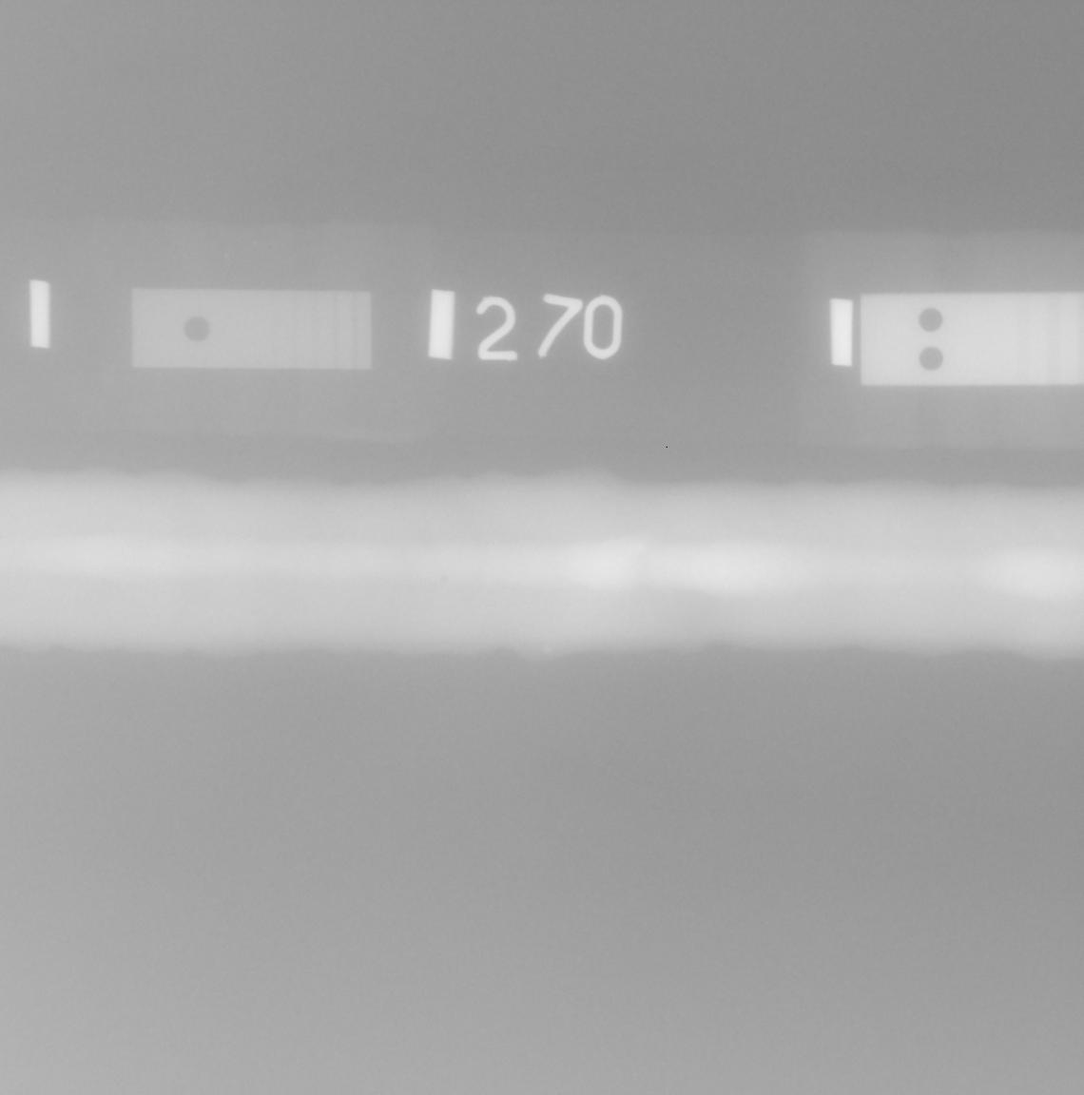Pore/Porosity: (440, 576, 447, 582)
Reference Standard 1: (131, 288, 371, 369)
